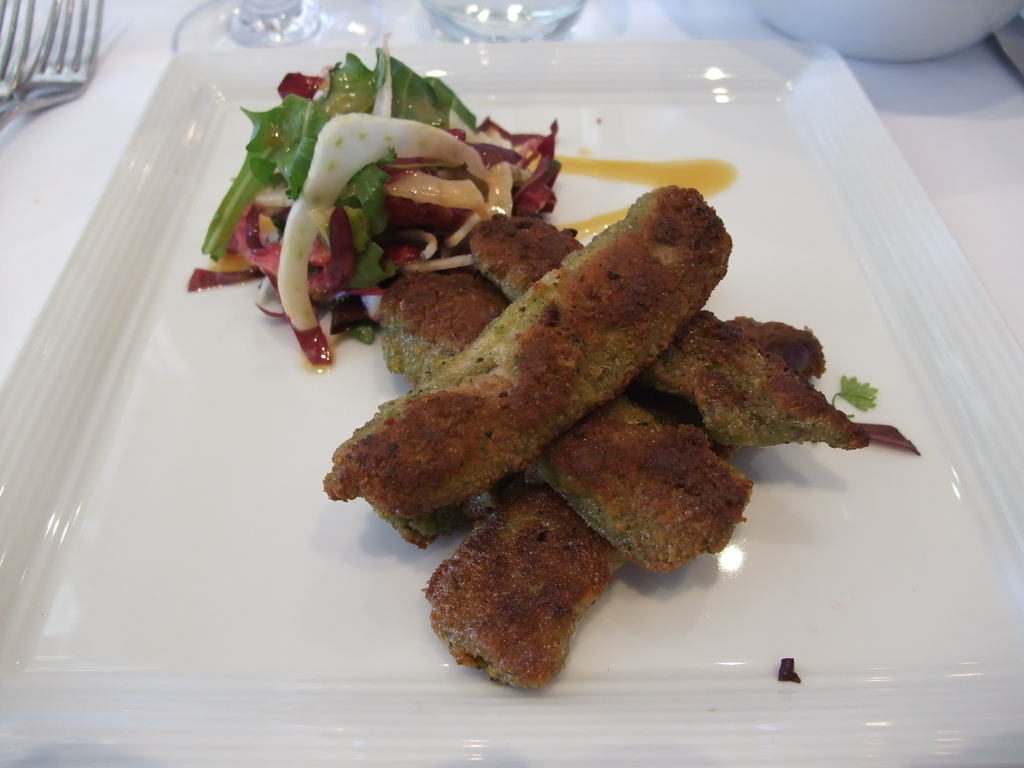salad: (192, 29, 568, 365)
